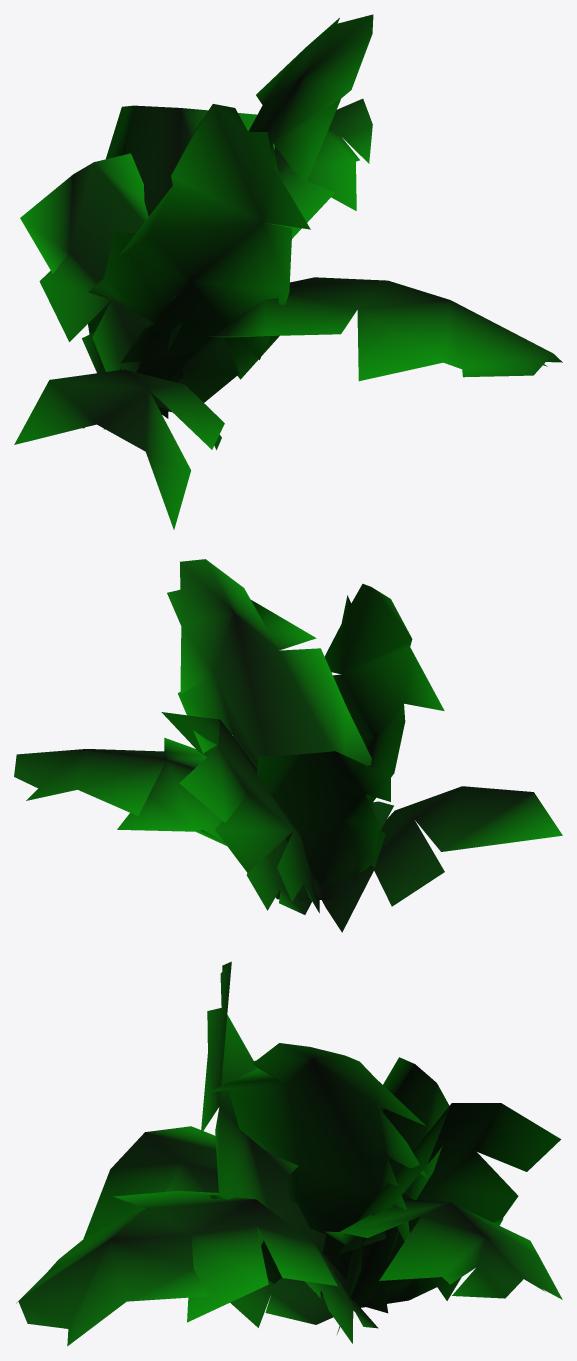
The model's file is FernCover02_afsTREE_xlprl08_xef05_xlod01.fbx.
3 renders of one model, top to bottom at view 1: azimuth 30°, elevation 25°; view 2: azimuth 150°, elevation 25°; view 3: azimuth 270°, elevation 25°, orthographic. The views are drawn at different scales.
Visible parts, largest first — view 1: frond_xw03_xt07_xlp05_xp10, frond_xw01_xt03_xlp01_xp09, frond_xw02_xt05_xlp03_xp03, frond_xw01_xt03_xlp02_xp05, trunk_xw03_xt06_xlp04, frond_xw02_xt05_xlp03_xp07, frond_xw01_xt03_xlp01_xp01; view 2: trunk_xw03_xt06_xlp04, frond_xw01_xt03_xlp01_xp01, frond_xw03_xt07_xlp05_xp10, frond_xw01_xt03_xlp02_xp05, frond_xw02_xt05_xlp03_xp03, frond_xw02_xt05_xlp03_xp07; view 3: frond_xw01_xt03_xlp01_xp09, trunk_xw03_xt06_xlp04, frond_xw01_xt03_xlp01_xp01, frond_xw02_xt05_xlp03_xp07, frond_xw01_xt03_xlp02_xp05, frond_xw03_xt07_xlp05_xp10, frond_xw02_xt05_xlp03_xp03.
Part boxes in pixels (box(x1,y1,x2,y2)): frond_xw03_xt07_xlp05_xp10: box(88, 104, 310, 382); frond_xw01_xt03_xlp01_xp09: box(158, 277, 562, 414); frond_xw02_xt05_xlp03_xp03: box(20, 153, 149, 372); frond_xw01_xt03_xlp02_xp05: box(14, 369, 224, 529); trunk_xw03_xt06_xlp04: box(157, 14, 373, 418); frond_xw02_xt05_xlp03_xp07: box(82, 105, 274, 385); frond_xw01_xt03_xlp01_xp01: box(266, 98, 372, 238); trunk_xw03_xt06_xlp04: box(167, 559, 371, 901); frond_xw01_xt03_xlp01_xp01: box(14, 737, 311, 914); frond_xw03_xt07_xlp05_xp10: box(319, 584, 444, 900); frond_xw01_xt03_xlp02_xp05: box(322, 786, 562, 932); frond_xw02_xt05_xlp03_xp03: box(257, 751, 390, 887); frond_xw02_xt05_xlp03_xp07: box(161, 712, 319, 913); frond_xw01_xt03_xlp01_xp09: box(16, 1191, 378, 1346); trunk_xw03_xt06_xlp04: box(209, 1043, 427, 1295); frond_xw01_xt03_xlp01_xp01: box(324, 1199, 562, 1334); frond_xw02_xt05_xlp03_xp07: box(338, 1103, 560, 1295); frond_xw01_xt03_xlp02_xp05: box(83, 1126, 333, 1327); frond_xw03_xt07_xlp05_xp10: box(200, 961, 360, 1311); frond_xw02_xt05_xlp03_xp03: box(363, 1057, 449, 1313).
Bounding box in the file's own units: 0.9518 × 0.8808 × 0.6729.
